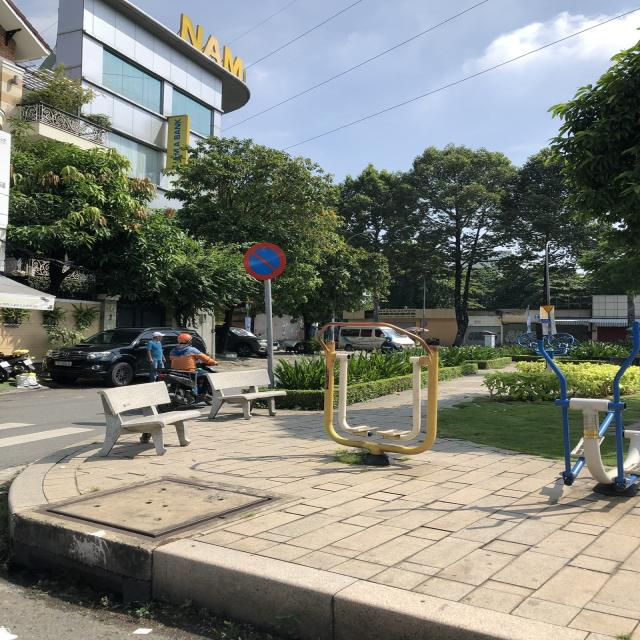Bien bao cam do xe: (238, 238, 293, 282)
